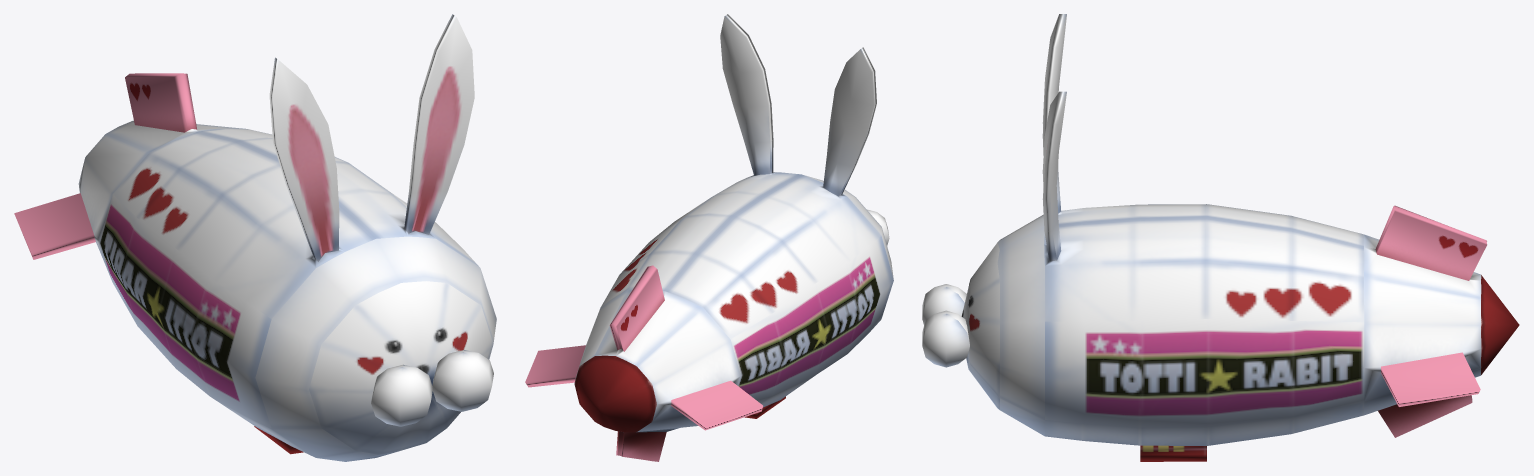
The model's file is kikyuu.fbx.
The picture shows the model from 3 angles, left to right: view 1: azimuth 30°, elevation 25°; view 2: azimuth 150°, elevation 25°; view 3: azimuth 270°, elevation 25°; orthographic projection. The views are drawn at different scales.
Visible parts, largest first — view 1: mesh; view 2: mesh; view 3: mesh.
Part boxes in pixels (x1=…): mesh: x1=14, y1=14, x2=496, y2=461; mesh: x1=525, y1=14, x2=893, y2=461; mesh: x1=922, y1=14, x2=1519, y2=461.
Bounding box in the file's own units: 18.97 × 27.3 × 37.14.
